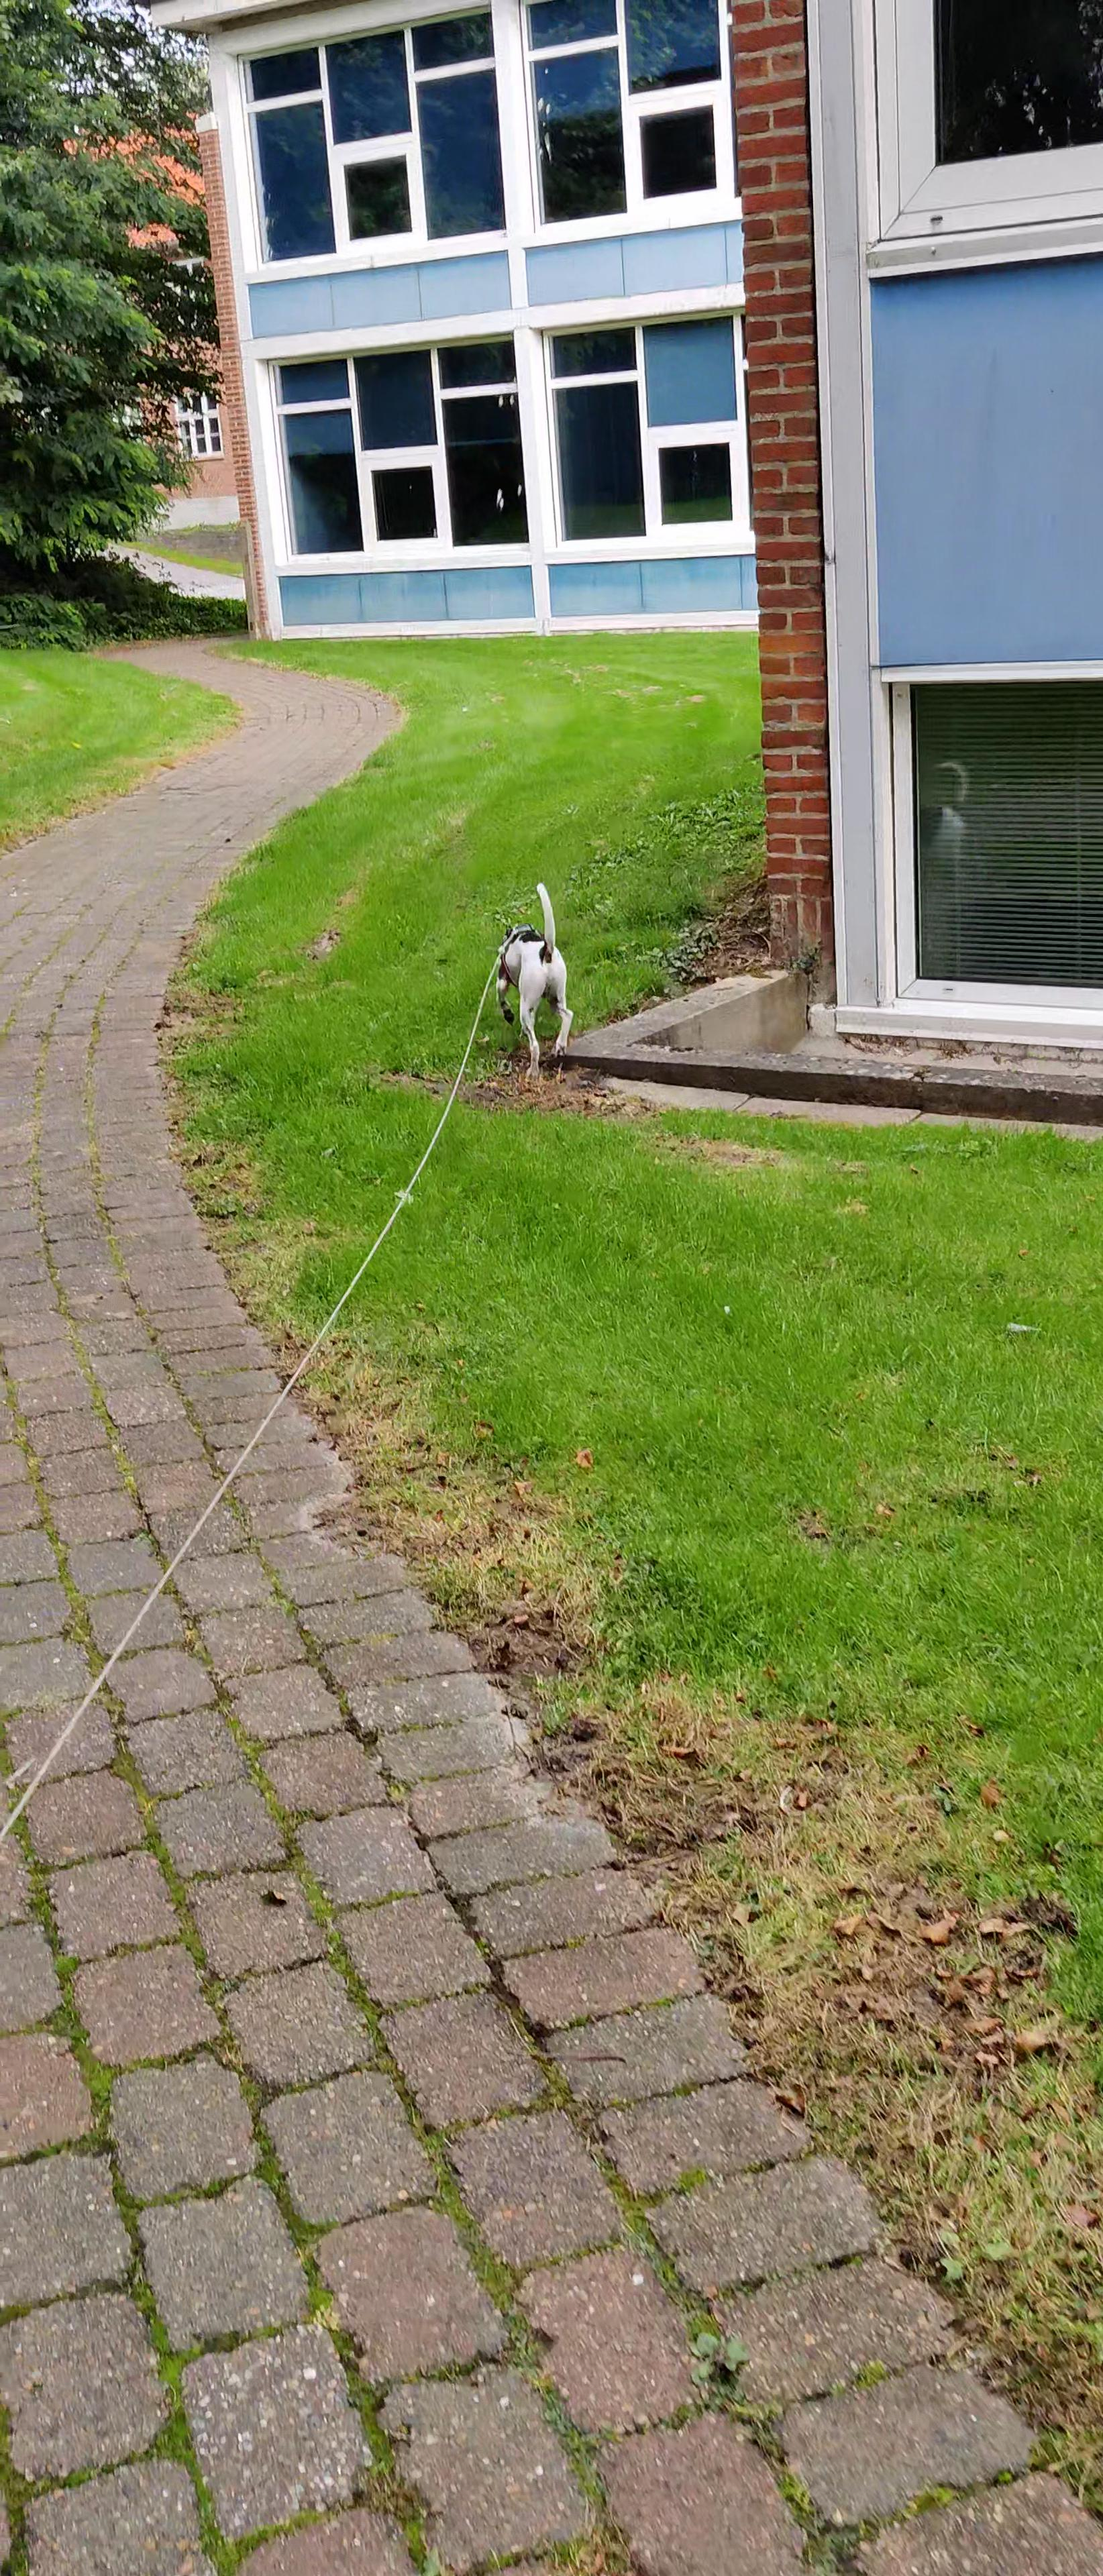Dog: (488, 877, 577, 1088)
